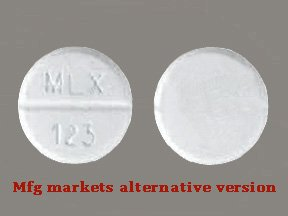Acetaminophen 325 MG Oral Tablet: (147, 43, 277, 170), (14, 41, 139, 169)
